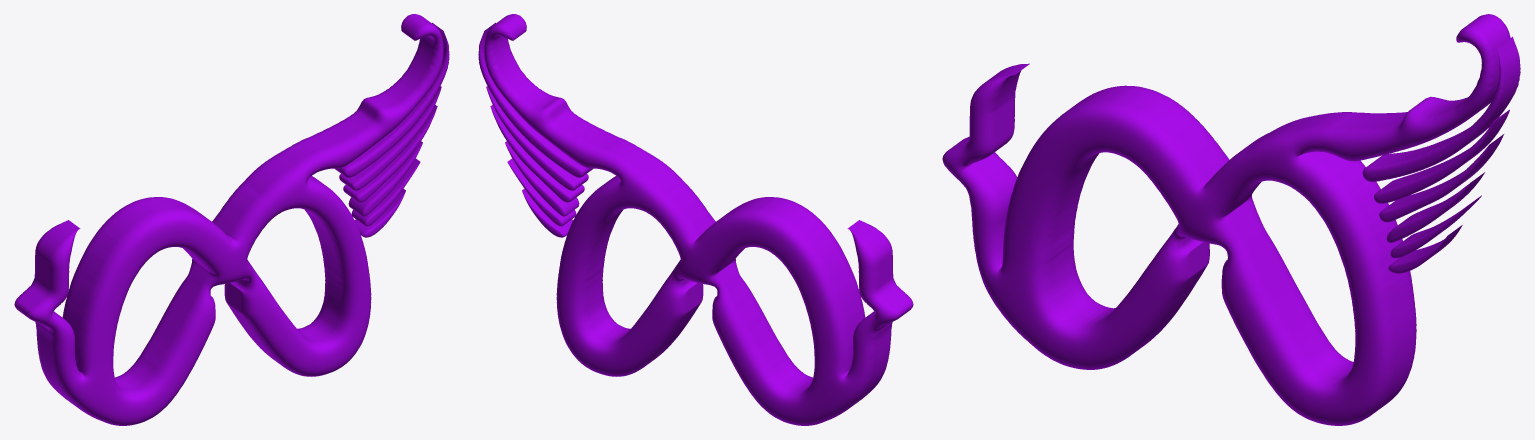
Rendered from metaAnime.glb.
3 renders of one model, left to right at view 1: azimuth 30°, elevation 25°; view 2: azimuth 150°, elevation 25°; view 3: azimuth 330°, elevation 25°, orthographic. The views are drawn at different scales.
Visible parts, largest first — view 1: 3d-logometaUT; view 2: 3d-logometaUT; view 3: 3d-logometaUT.
Boxes of the visible parts, x1,y1,x2,y2 form: 3d-logometaUT: (14, 14, 449, 425); 3d-logometaUT: (478, 14, 913, 425); 3d-logometaUT: (942, 14, 1520, 425).
Size of the model in its own units: 204 by 151 by 26.41.
